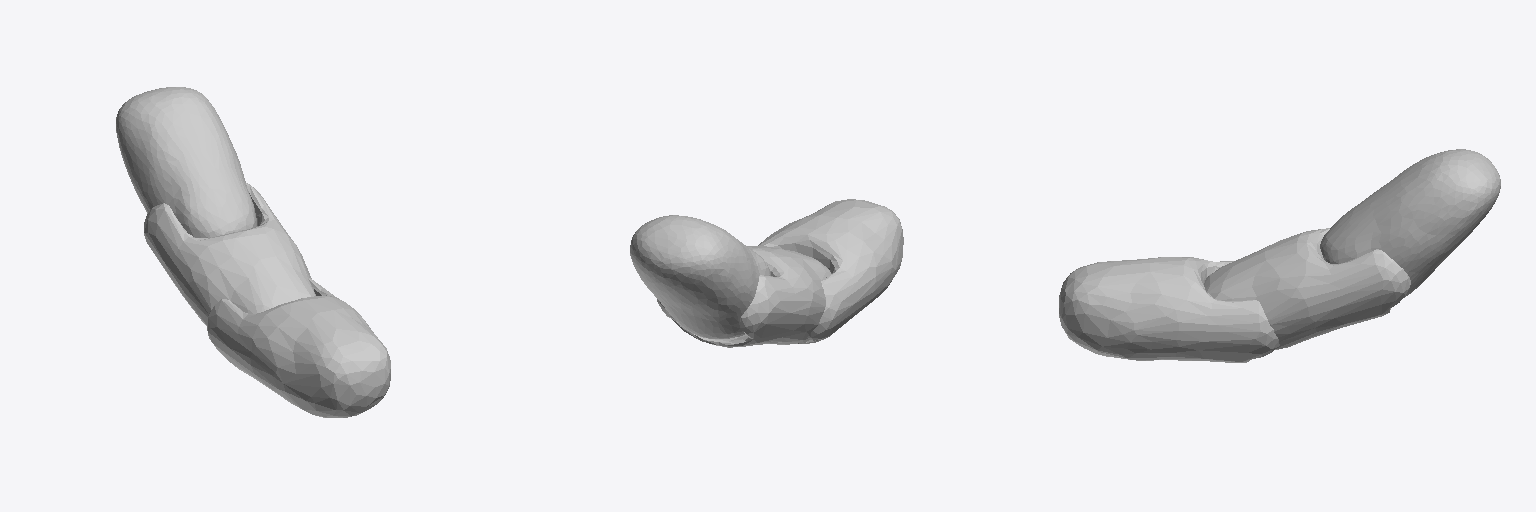
Rendered from thumb_mirrored.obj.
3 renders of one model, left to right at view 1: azimuth 30°, elevation 25°; view 2: azimuth 150°, elevation 25°; view 3: azimuth 270°, elevation 25°, orthographic.
Parts seen in each view (by area): view 1: thumb_seg_M.010; view 2: thumb_seg_M.010; view 3: thumb_seg_M.010.
Boxes of the visible parts, x1=… form: thumb_seg_M.010: x1=116, y1=87, x2=390, y2=417; thumb_seg_M.010: x1=630, y1=199, x2=903, y2=347; thumb_seg_M.010: x1=1059, y1=149, x2=1500, y2=362.
Size of the model in its own units: 18.28 by 30.27 by 61.35.